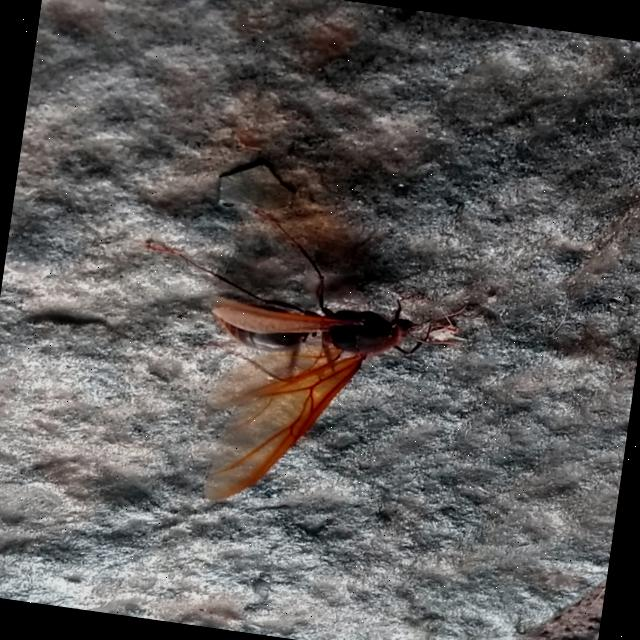Alive-Male-Alate: (110, 195, 478, 533)
